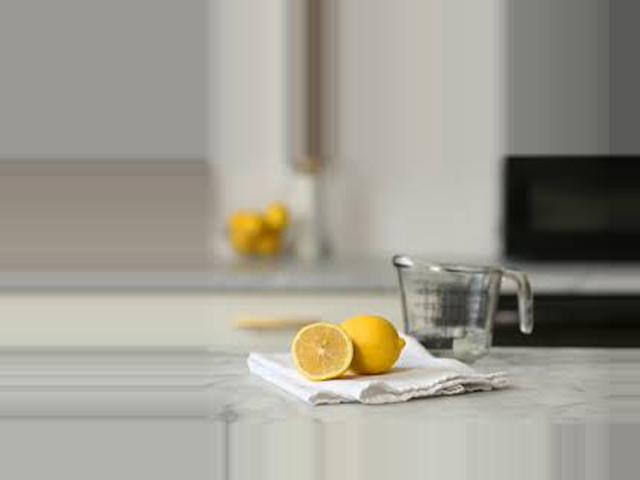lemon: (329, 311, 406, 372)
